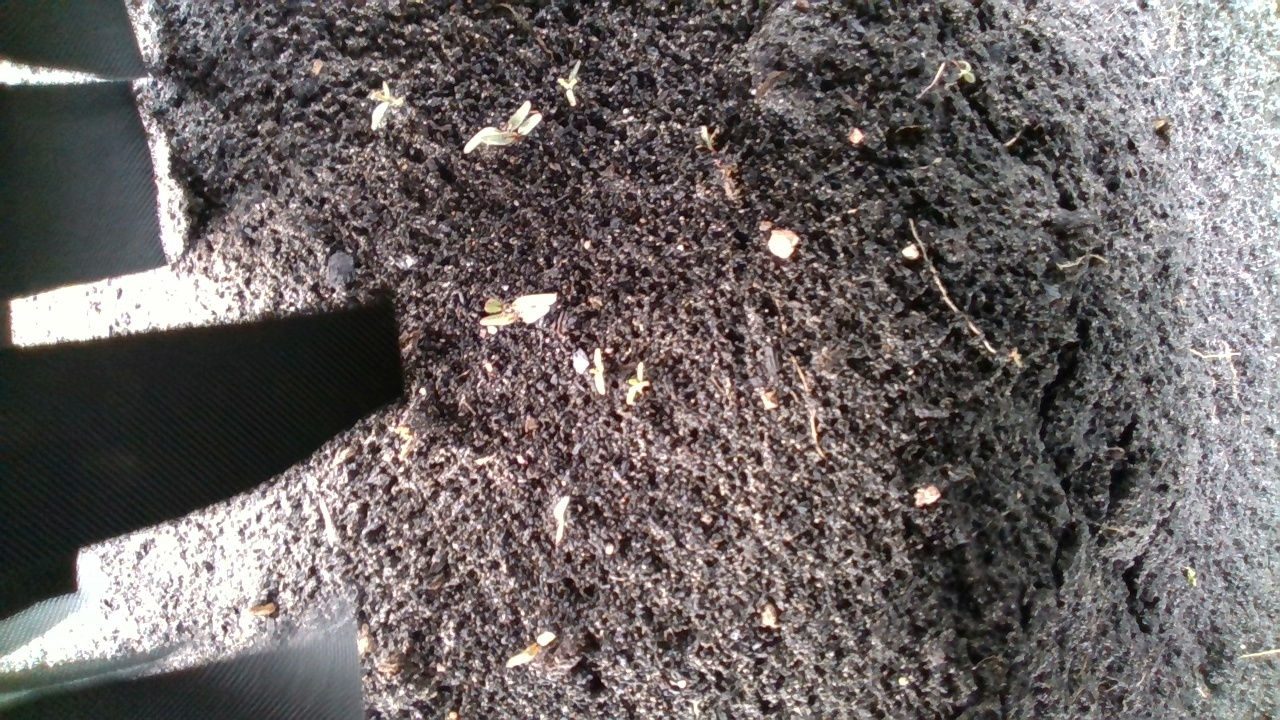weed: (353, 78, 398, 133)
